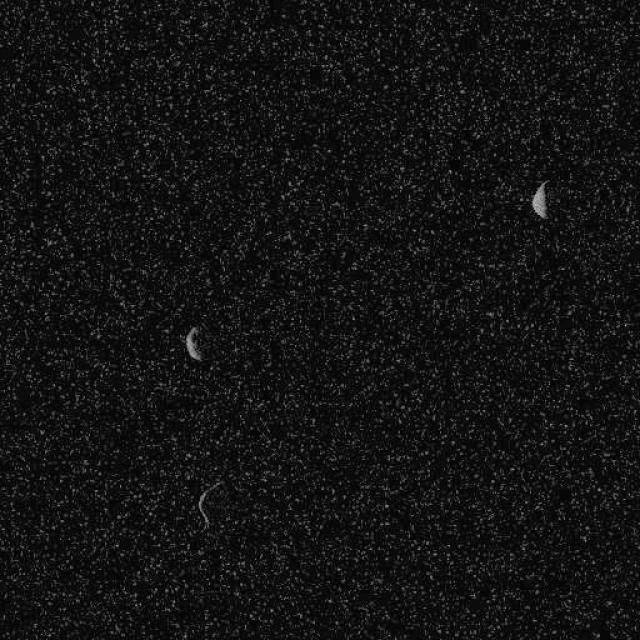D2: (196, 479, 222, 530), (530, 179, 550, 219), (184, 325, 205, 363)
